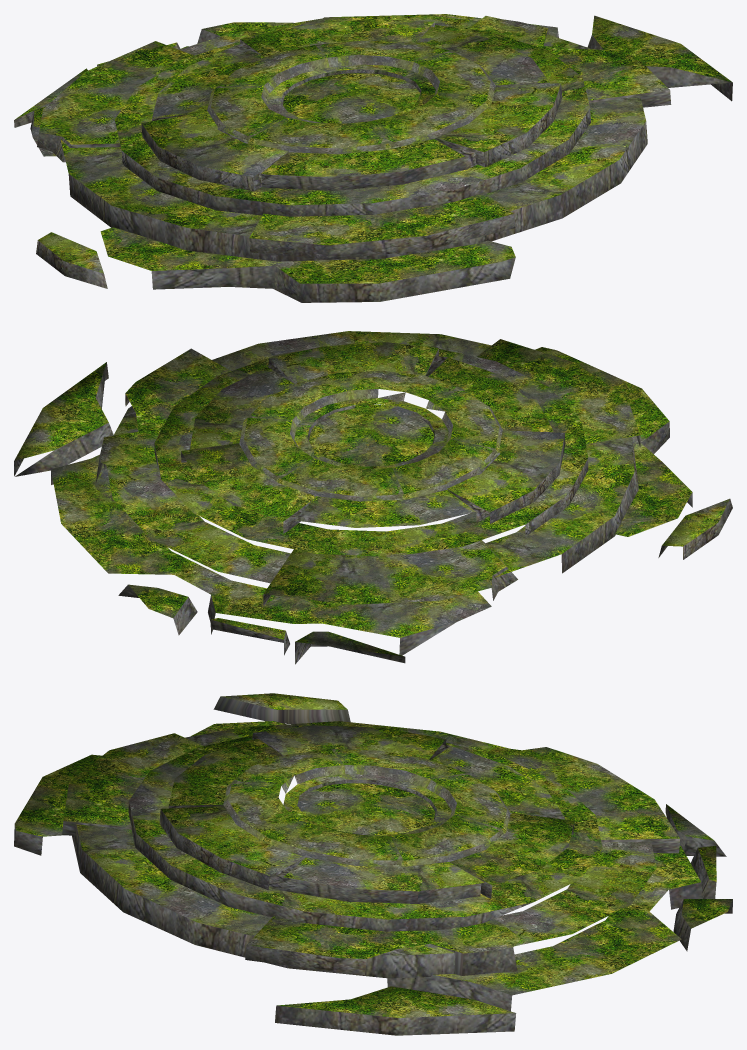
The model's file is S_Rock_Green050_A.FBX.
The picture shows the model from 3 angles, top to bottom: view 1: azimuth 30°, elevation 25°; view 2: azimuth 150°, elevation 25°; view 3: azimuth 270°, elevation 25°; orthographic projection. The views are drawn at different scales.
Parts seen in each view (by area): view 1: S_Rock_Green050_A; view 2: S_Rock_Green050_A; view 3: S_Rock_Green050_A.
Boxes of the visible parts, left/top/right/bottom form: S_Rock_Green050_A: left=14, top=14, right=732, bottom=302; S_Rock_Green050_A: left=14, top=331, right=732, bottom=664; S_Rock_Green050_A: left=14, top=693, right=732, bottom=1035.
Size of the model in its own units: 1120 by 1029 by 173.
